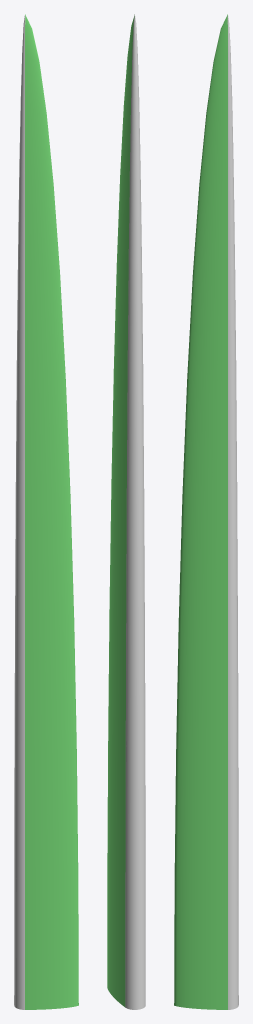
File: gunblade_blade.fbx
3 views of the same model, side by side, from view 1: azimuth 90°, elevation 25°; view 2: azimuth 210°, elevation 25°; view 3: azimuth 270°, elevation 25° (orthographic).
Visible parts, largest first — view 1: SurfSphere.001, SurfSphere; view 2: SurfSphere, SurfSphere.001; view 3: SurfSphere.001, SurfSphere.
Boxes of the visible parts, x1,y1,x2,y2 form: SurfSphere.001: (25,14,78,1009); SurfSphere: (14,16,25,1009); SurfSphere: (125,14,145,1009); SurfSphere.001: (107,15,134,1007); SurfSphere.001: (174,14,227,1009); SurfSphere: (227,16,238,1009).
Size of the model in its own units: 2 by 5.91 by 100.
